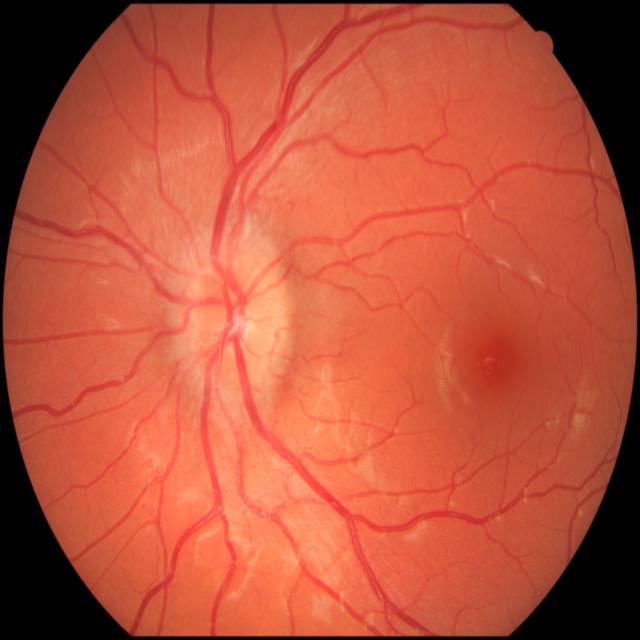OD: (182, 240, 286, 392)
